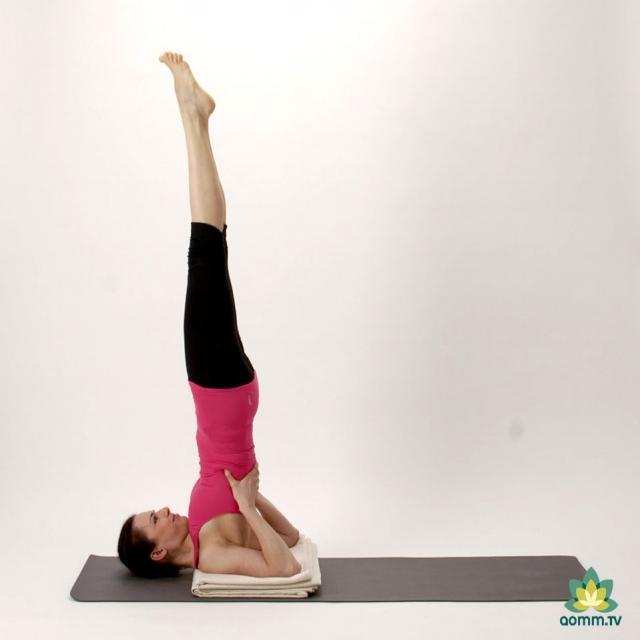yoga-pose shoulderstand: (108, 50, 305, 572)
